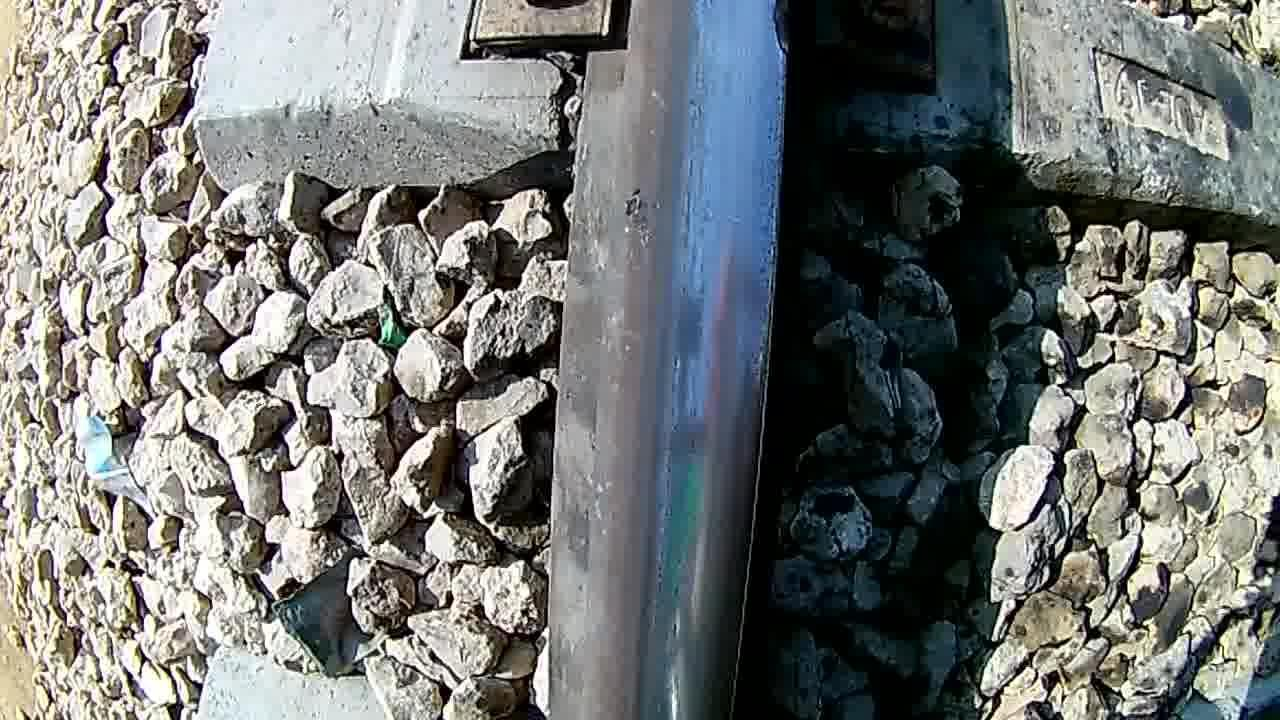crack: (560, 60, 789, 720)
